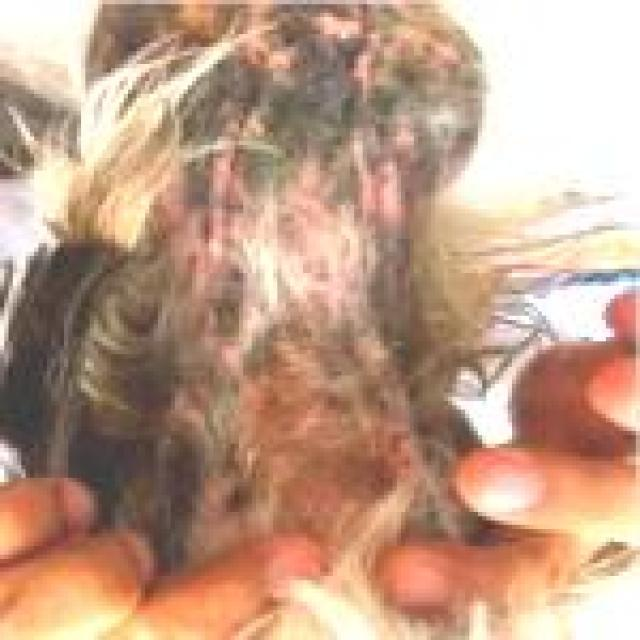fungal infection: (177, 0, 466, 87), (252, 409, 435, 515), (176, 258, 256, 419), (277, 182, 357, 321), (200, 114, 269, 238), (364, 133, 434, 230)
